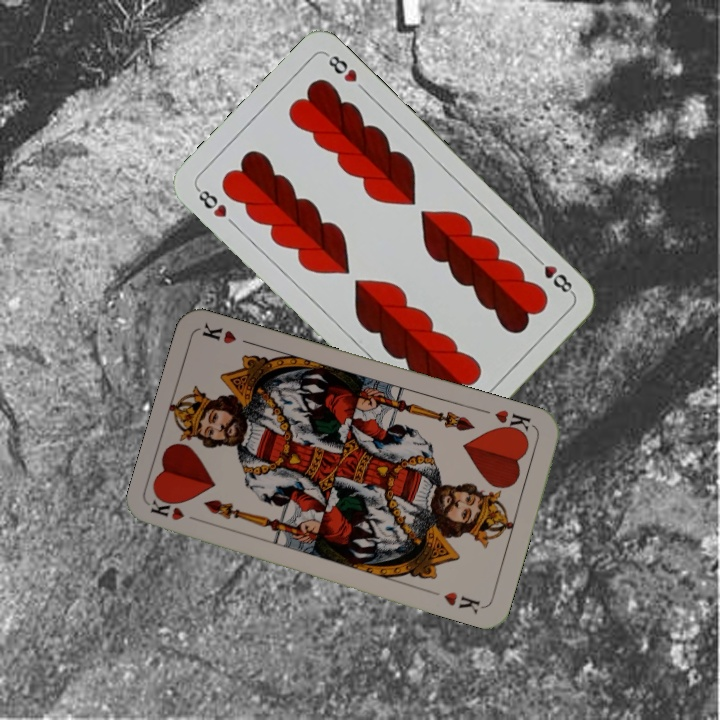H8: (530, 252, 577, 297), (192, 183, 230, 221)
HK: (147, 496, 207, 525), (491, 405, 533, 439)
